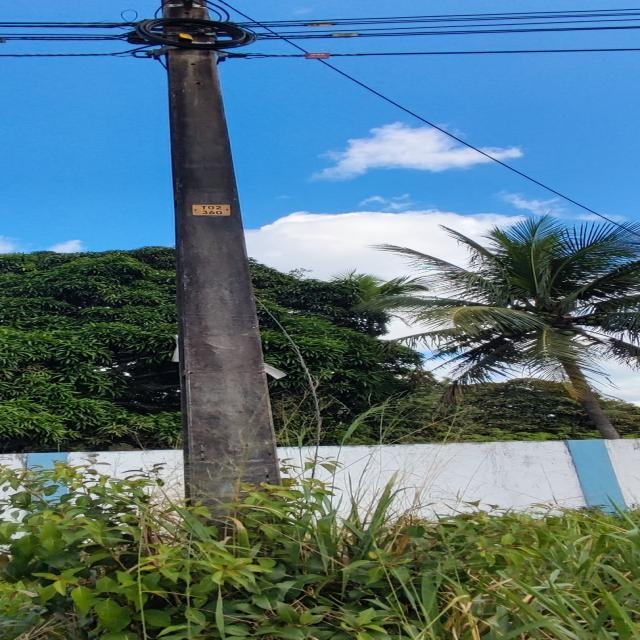Plaqueta: (305, 52, 329, 58)
